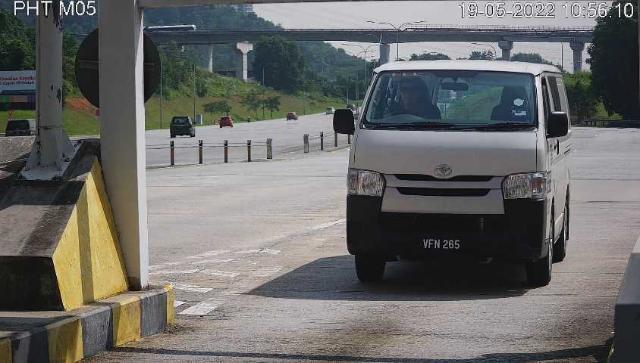License_Plate: (417, 234, 466, 259)
van: (348, 61, 572, 287)
